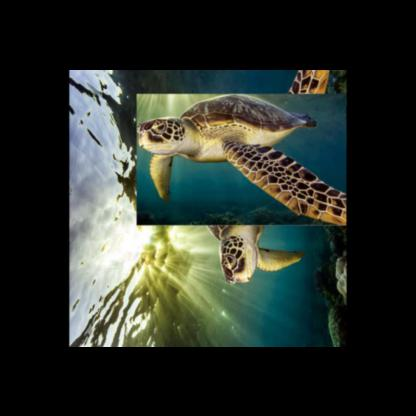turtle: (166, 69, 346, 254)
